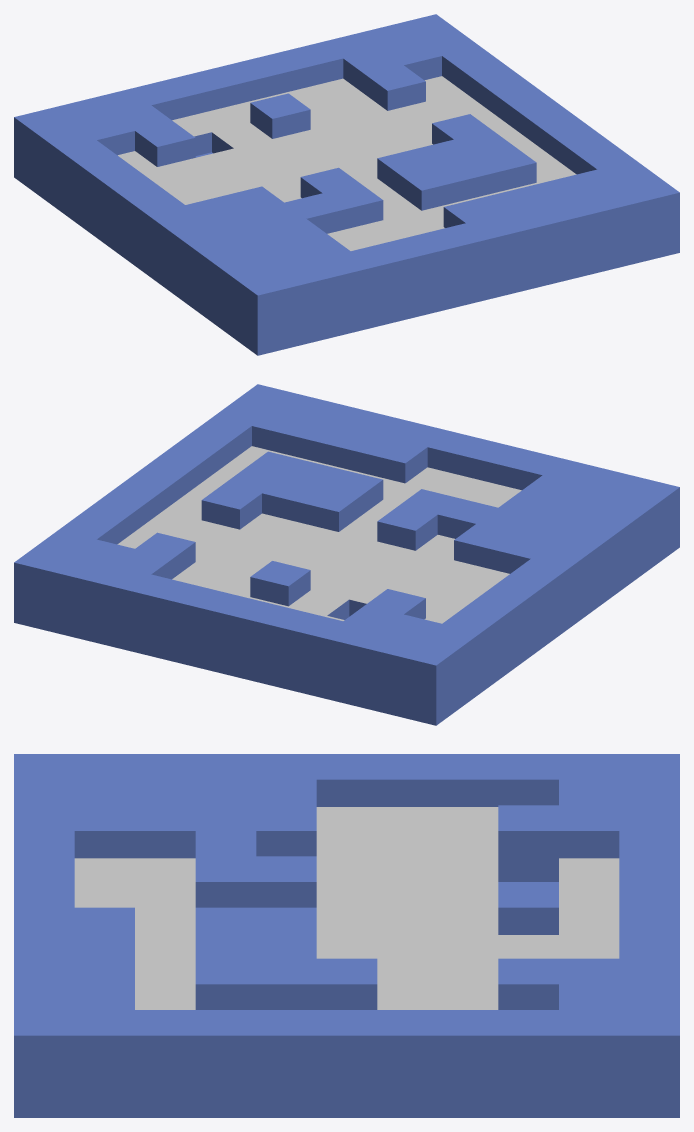
The model's file is 035_platform.fbx.
The picture shows the model from 3 angles, top to bottom: view 1: azimuth 30°, elevation 25°; view 2: azimuth 150°, elevation 25°; view 3: azimuth 270°, elevation 25°; orthographic projection. The views are drawn at different scales.
Parts seen in each view (by area): view 1: Cube; view 2: Cube; view 3: Cube.
Boxes of the visible parts, x1,y1,x2,y2 form: Cube: (14, 14, 679, 355); Cube: (14, 384, 679, 725); Cube: (14, 754, 679, 1117).
Bounding box in the file's own units: 1100 × 150 × 1100.
